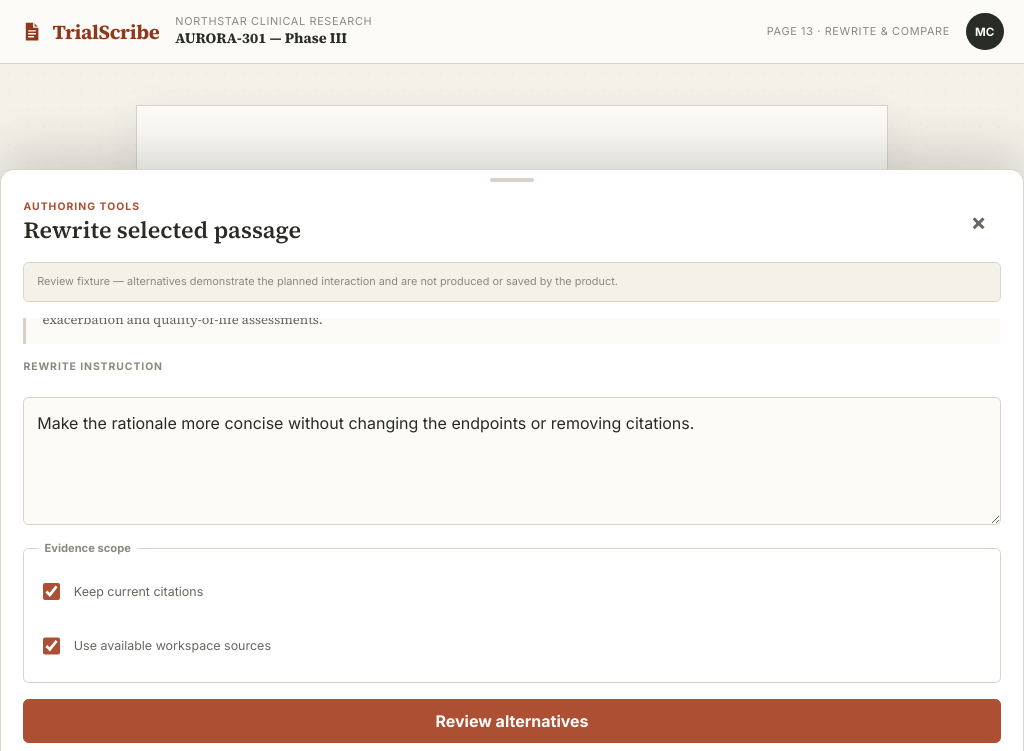
Test case: RewriteReviewPage › moves from setup through compare and back to alternatives
(page scrolled)
Click the button "Review alternatives".
click(512, 721)  # box [23,699,1001,743]
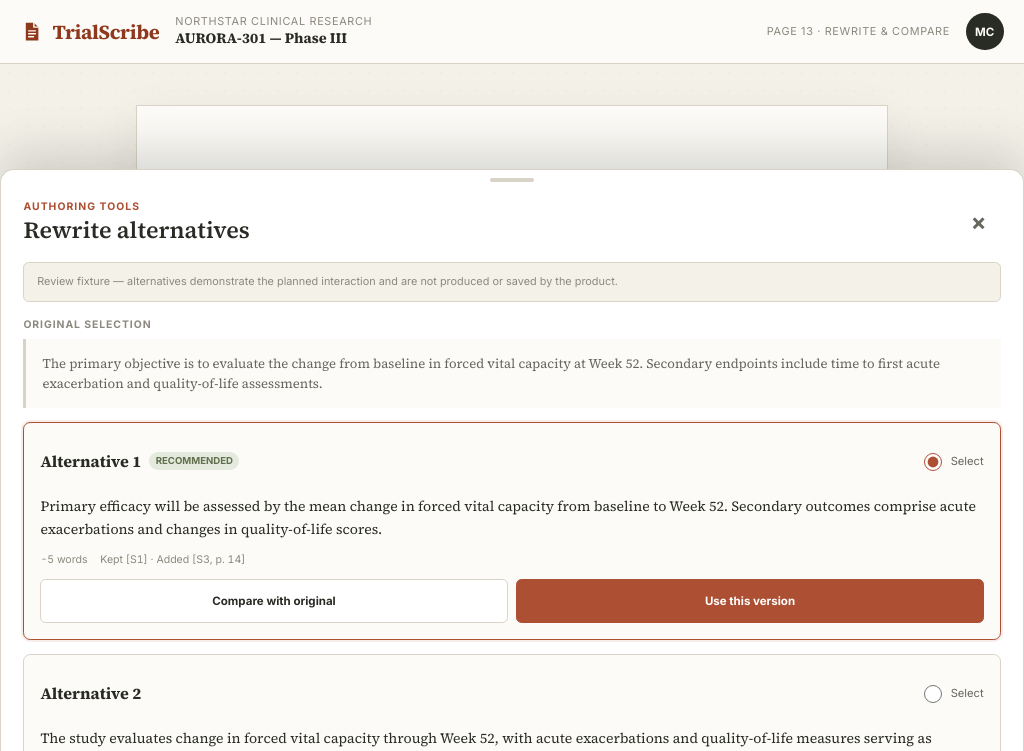
Result: the heading "Rewrite alternatives" is shown at [23,217,250,244]
Click the button "Compare with original".
click(274, 601)  # box [40,579,508,623]
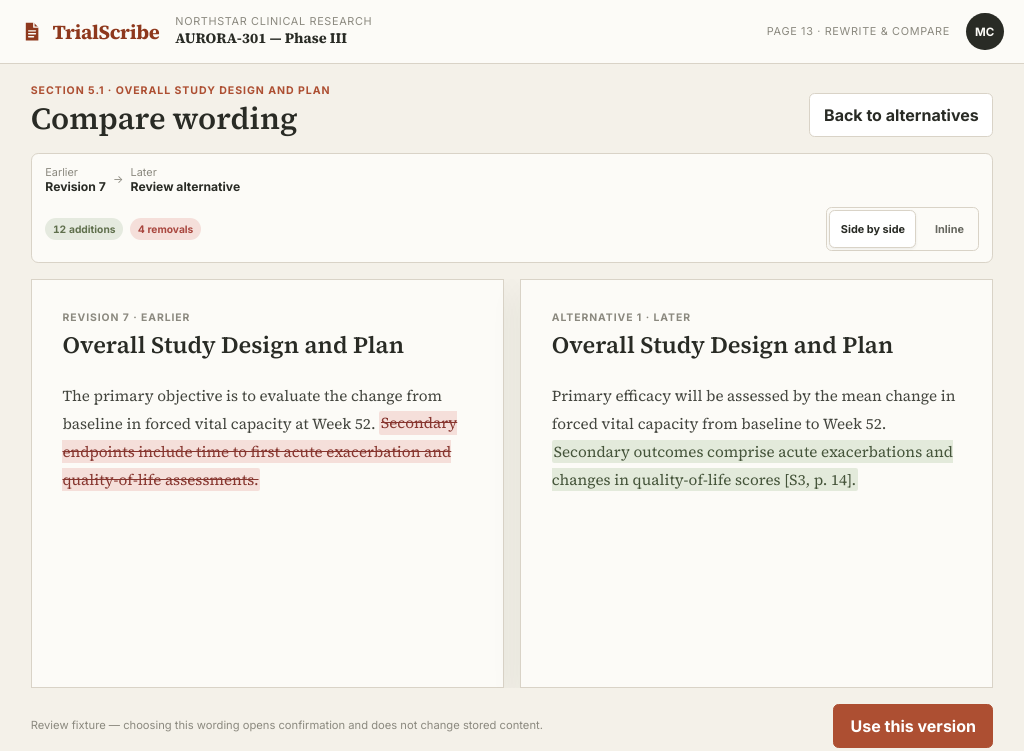
Result: the heading "Compare wording" is shown at [31,102,331,137]
Click the button "Back to alternatives".
click(901, 115)  # box [810,93,993,137]
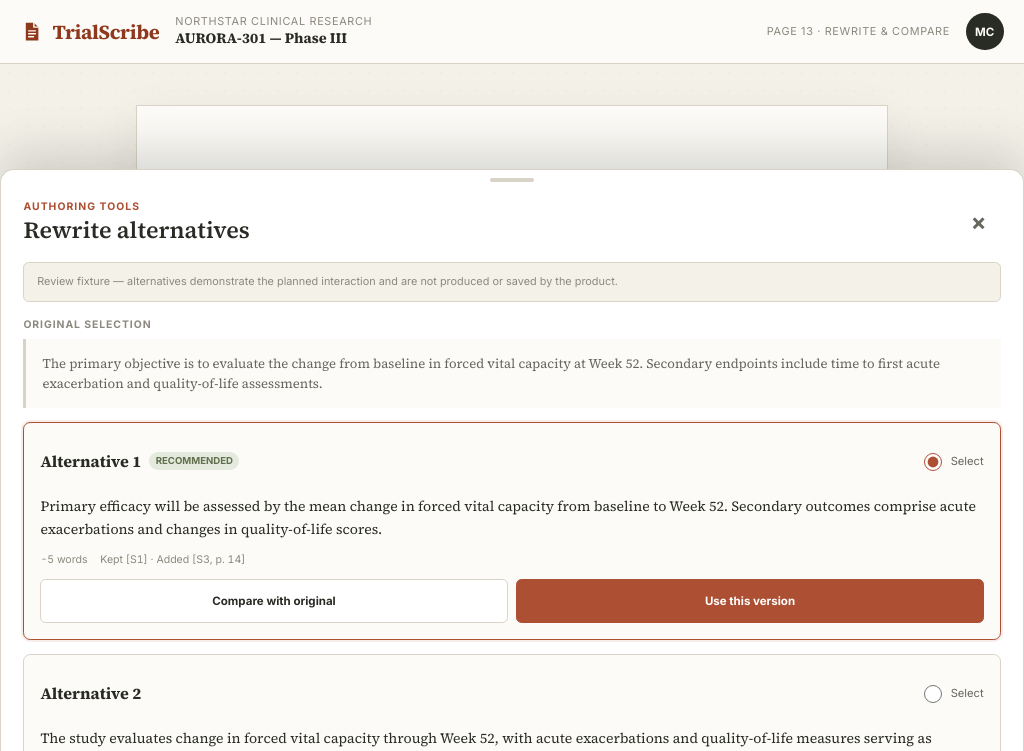
Result: the heading "Rewrite alternatives" is shown at [23,217,250,244]
